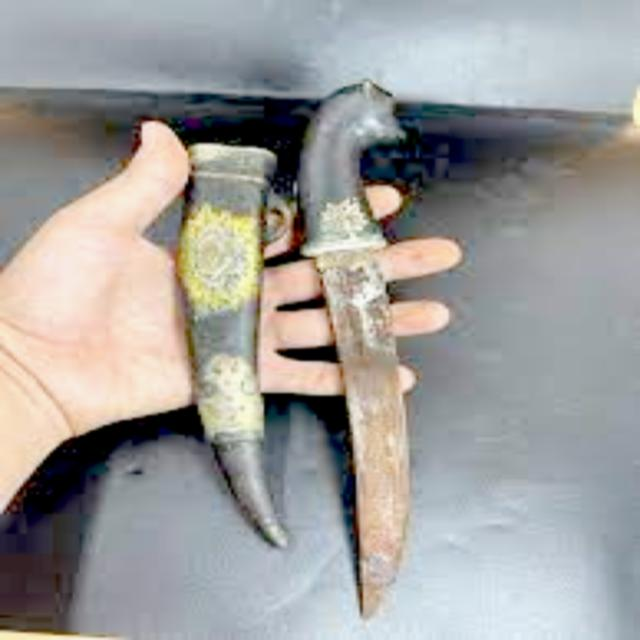short sword: (152, 54, 440, 628)
